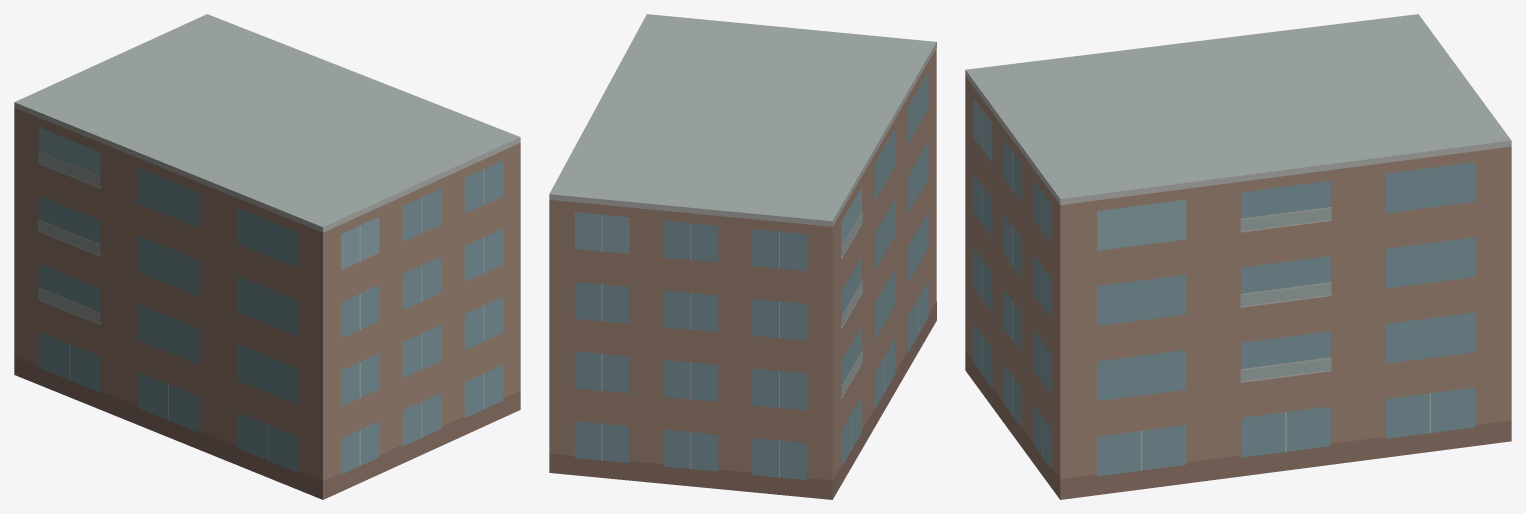
File: survey-upis-33012968.glb
3 views of the same model, side by side, from view 1: azimuth 30°, elevation 25°; view 2: azimuth 150°, elevation 25°; view 3: azimuth 270°, elevation 25° (orthographic). The views are drawn at different scales.
Parts seen in each view (by area): view 1: survey-upis-33012968.tmp; view 2: survey-upis-33012968.tmp; view 3: survey-upis-33012968.tmp.
Boxes of the visible parts, x1,y1,x2,y2 form: survey-upis-33012968.tmp: (14, 14, 520, 499); survey-upis-33012968.tmp: (549, 14, 936, 499); survey-upis-33012968.tmp: (965, 14, 1511, 499).
Bounding box in the file's own units: 16.12 × 12.2 × 20.09.
